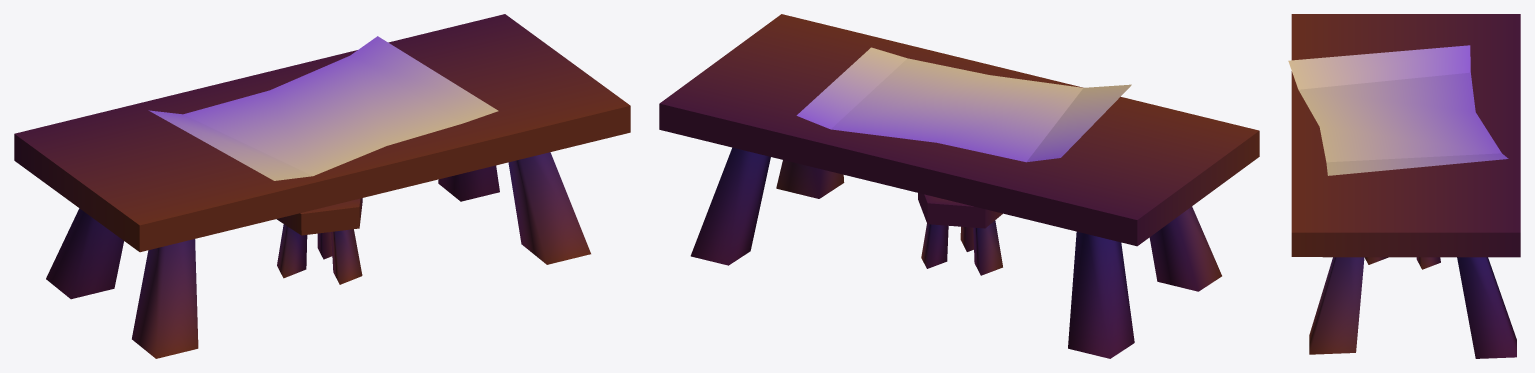
Rendered from furniture.fbx.
The picture shows the model from 3 angles, left to right: view 1: azimuth 30°, elevation 25°; view 2: azimuth 150°, elevation 25°; view 3: azimuth 270°, elevation 25°; orthographic projection. The views are drawn at different scales.
Parts seen in each view (by area): view 1: table, chair; view 2: table, chair; view 3: table, chair.
Boxes of the visible parts, x1,y1,x2,y2 form: table: [14, 14, 630, 358]; chair: [276, 198, 362, 284]; table: [659, 14, 1259, 358]; chair: [918, 193, 1002, 275]; table: [1288, 14, 1520, 358]; chair: [1364, 257, 1440, 269].
Size of the model in its own units: 452 by 150 by 203.
